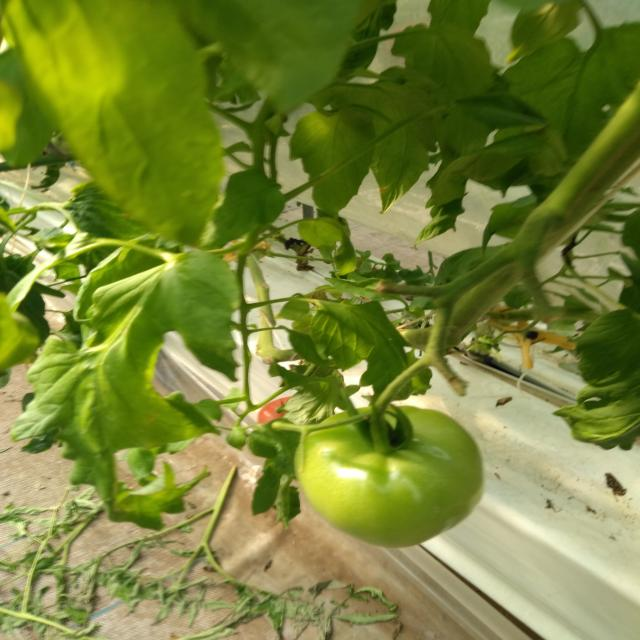yesil: (310, 394, 459, 551)
